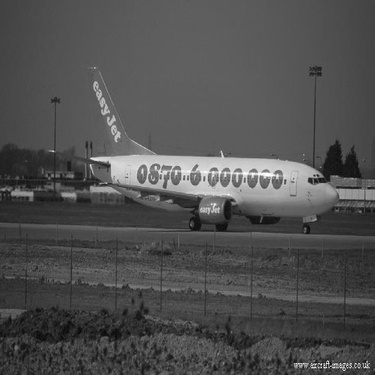airplane: (19, 52, 348, 262)
